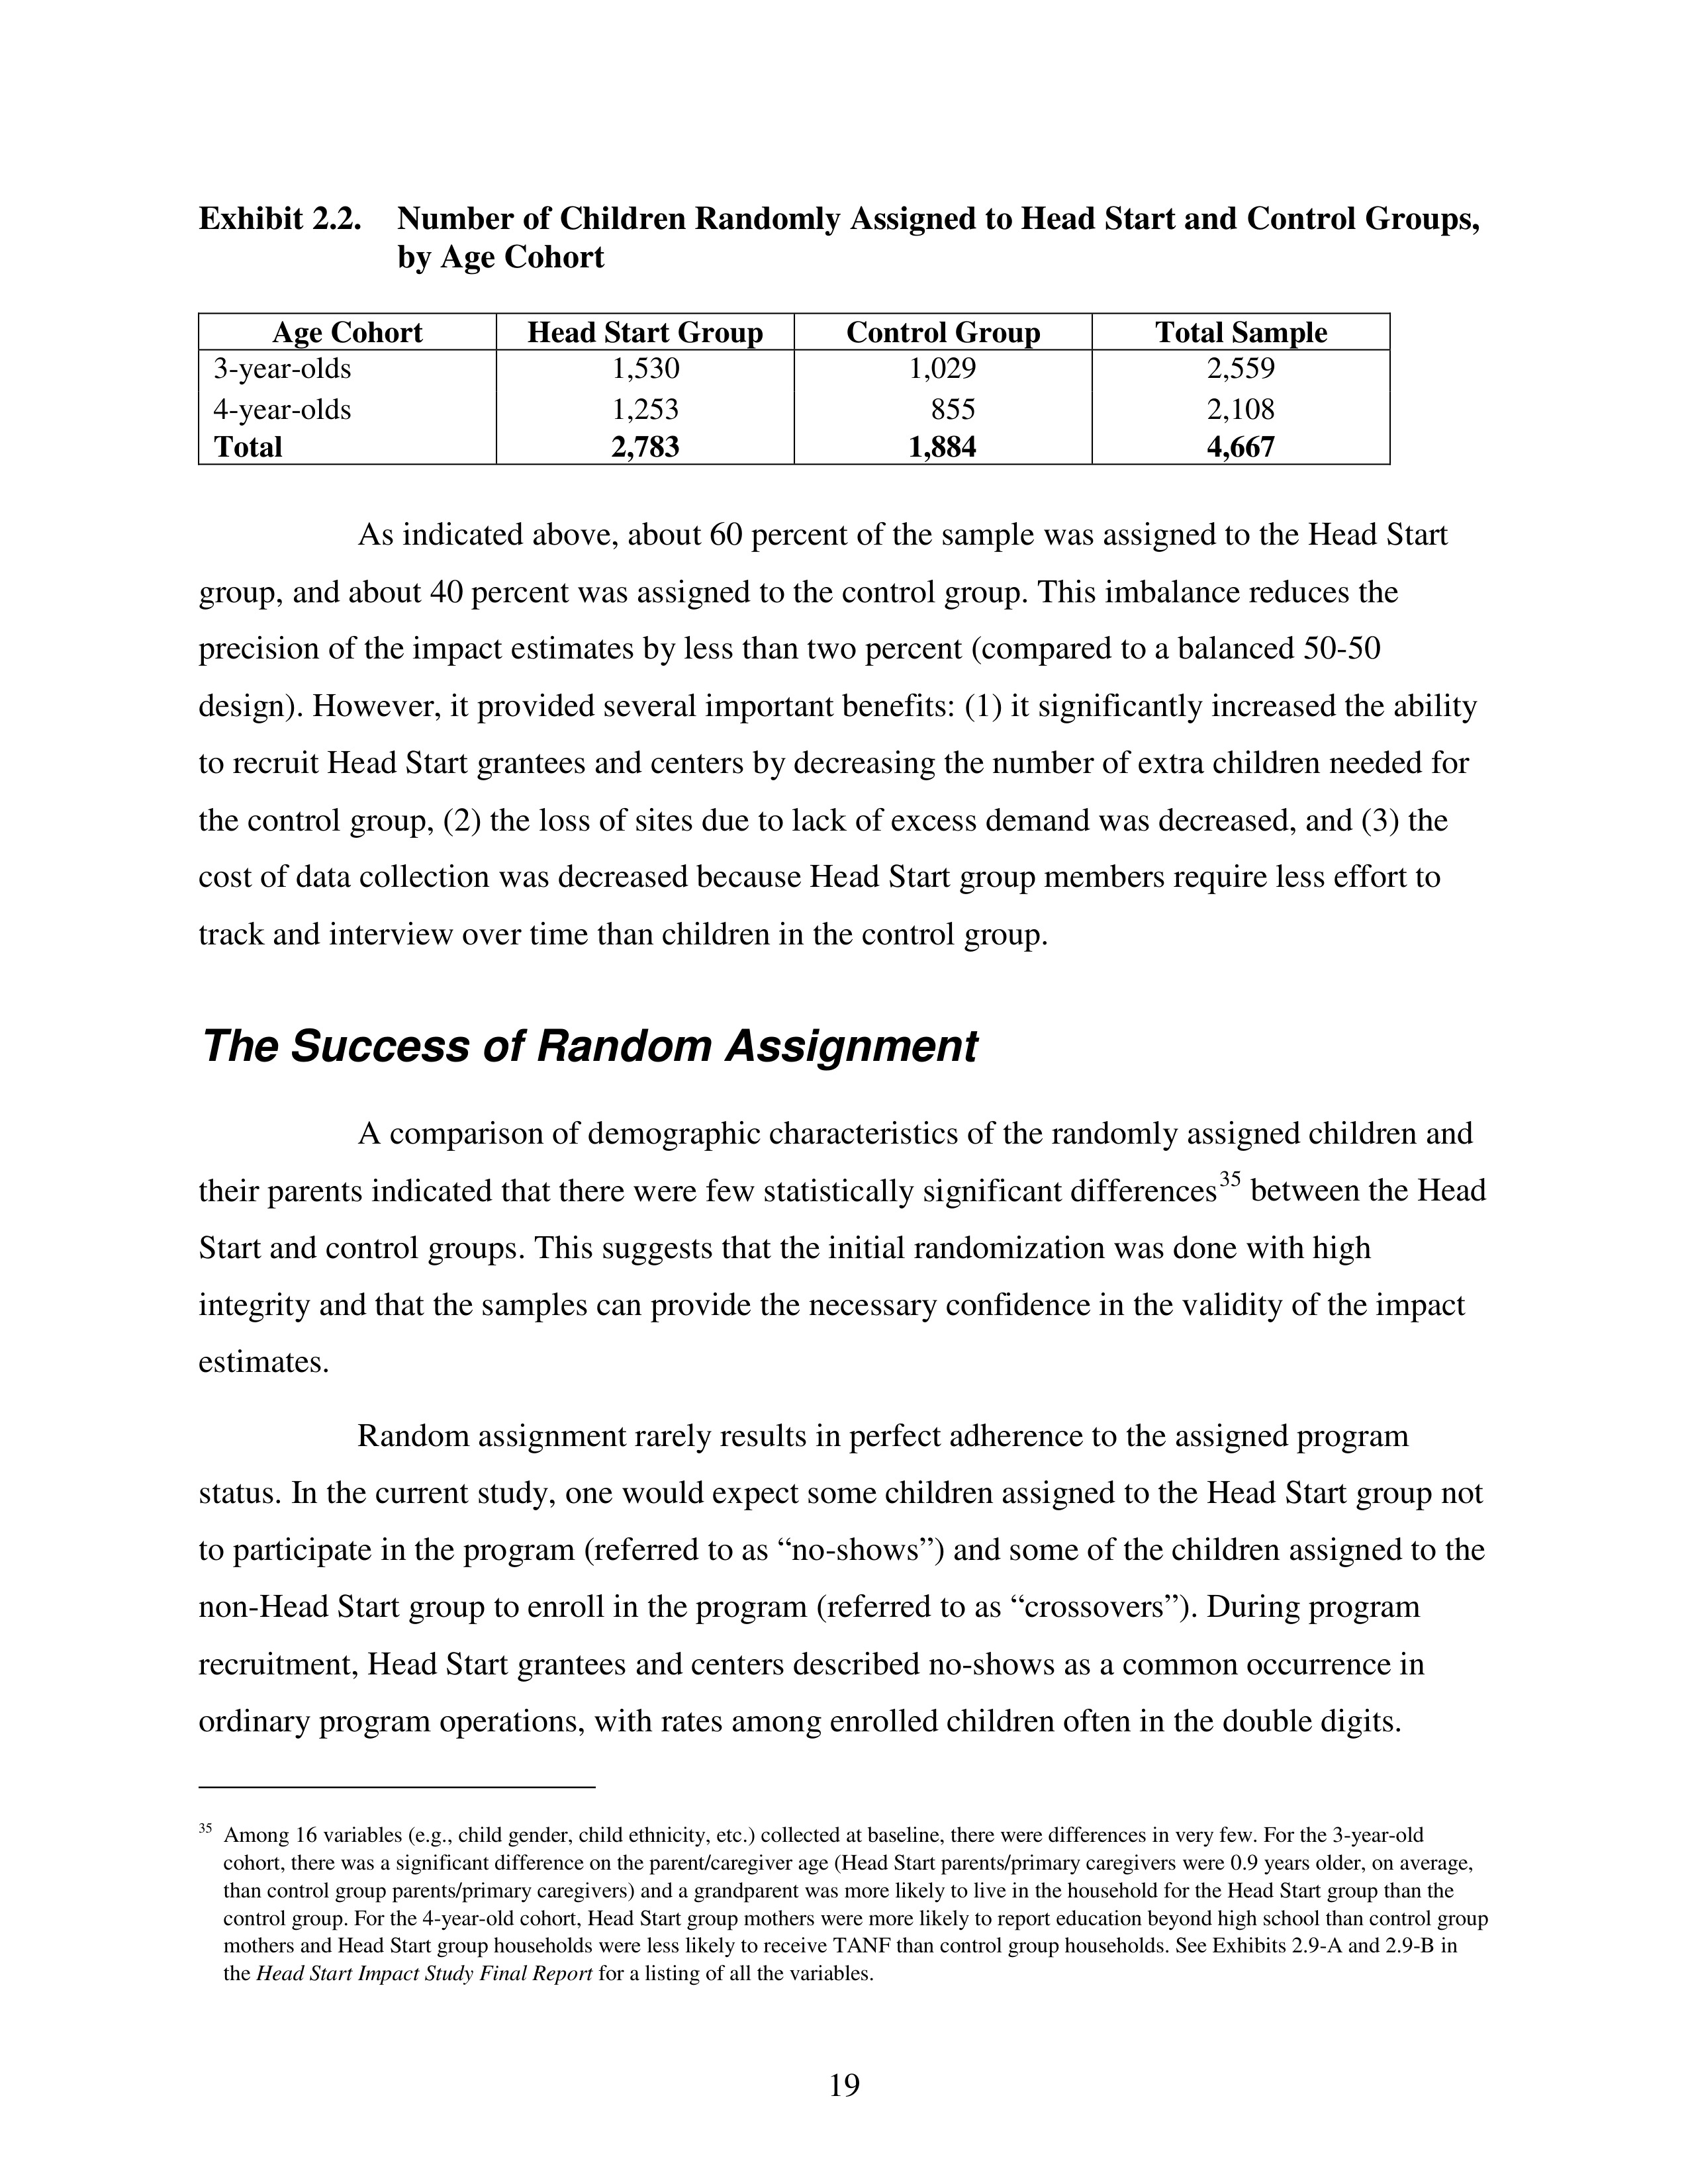table: (213, 310, 1328, 468)
